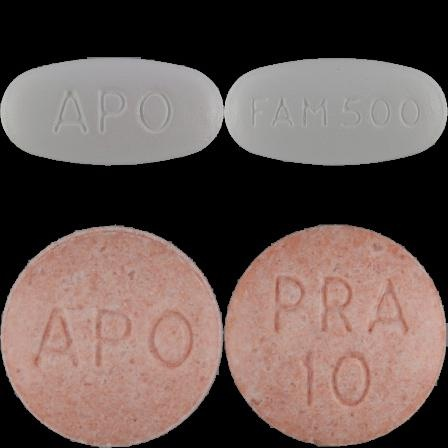60429-361: (0, 0, 224, 224)
